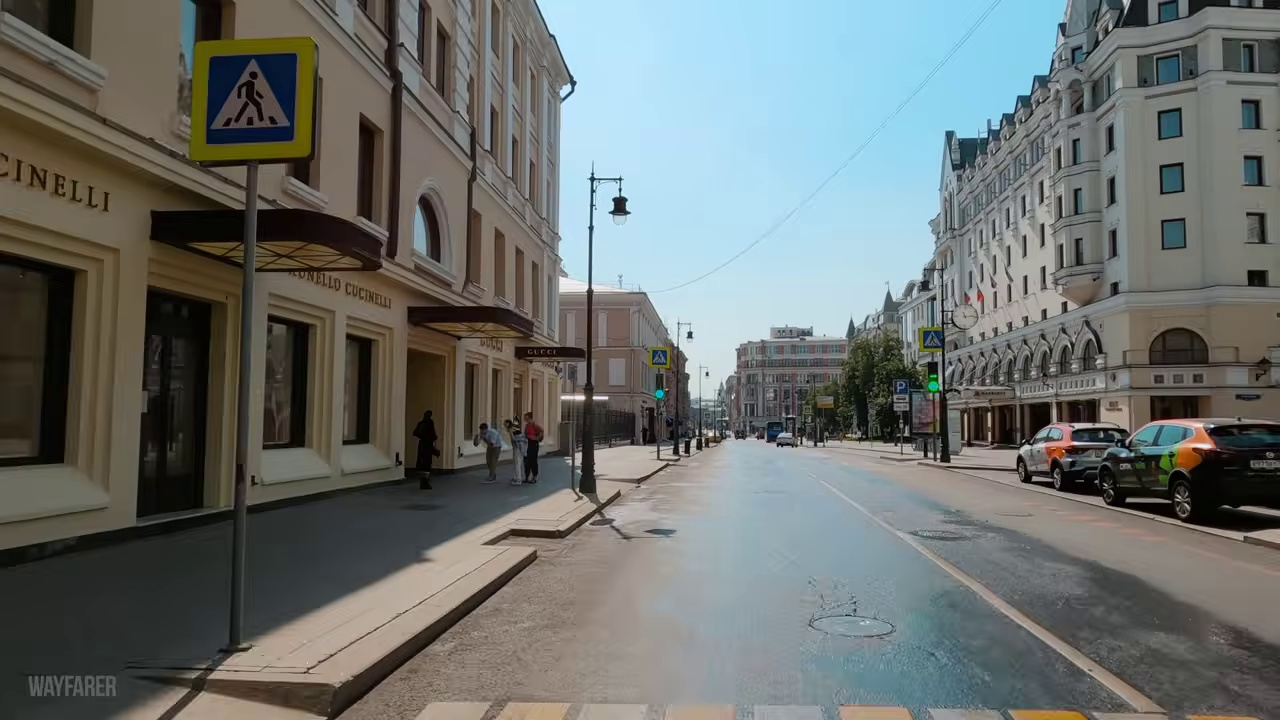apagada: (595, 182, 634, 225), (601, 195, 633, 224), (556, 82, 577, 108)
